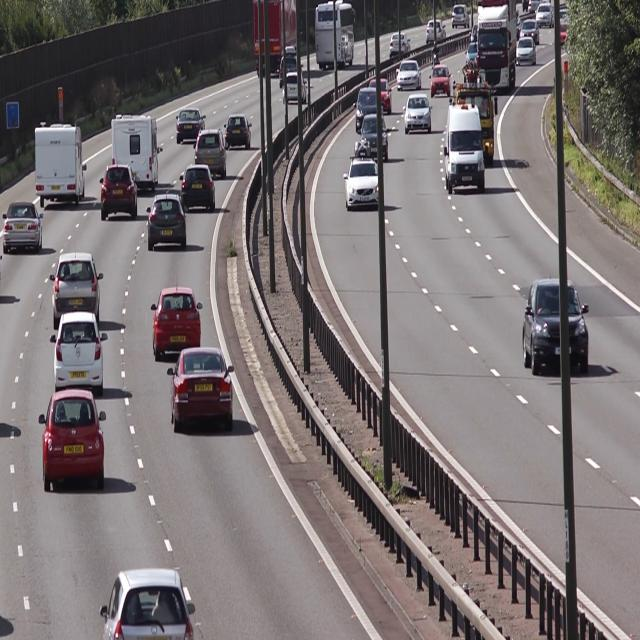Car: (520, 277, 592, 384), (100, 567, 196, 640), (39, 392, 108, 488), (168, 352, 236, 427), (50, 310, 108, 394), (34, 118, 89, 204), (106, 108, 161, 190), (49, 248, 104, 324), (444, 100, 488, 190), (153, 286, 203, 364), (252, 0, 302, 78), (477, 1, 517, 90), (314, 0, 358, 71), (342, 138, 383, 212), (1, 201, 45, 258), (98, 165, 142, 222), (148, 190, 187, 252), (180, 163, 217, 211), (195, 128, 228, 180), (402, 86, 434, 136), (361, 113, 389, 159), (223, 111, 254, 152), (177, 107, 207, 145), (358, 86, 384, 129), (283, 70, 308, 107), (397, 57, 422, 93), (431, 58, 452, 97), (280, 45, 299, 85), (514, 37, 538, 66)
